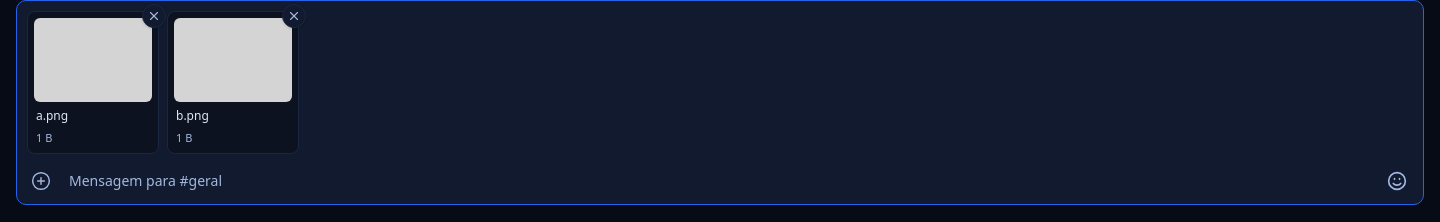
os anexos no campo › o + anexa; o cartão mostra o nome e o X tira; com anexo, o texto é opcional
The width and height of the screenshot is (1440, 222).
Earlier steps of the test are not shown.
Later steps or results of the test are not shown.
expect the text "a.png" is shown: met, box [36,107,68,124]
Click the button named "Tirar a.png" at x=154, y=16, box [142,4,166,28]
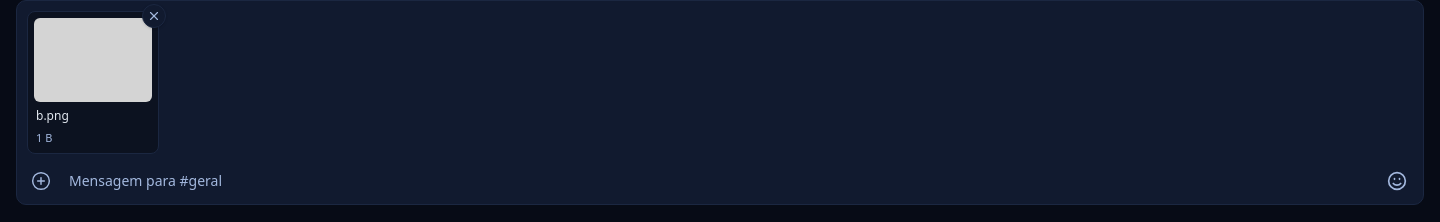
expect the text "a.png" is gone: met
